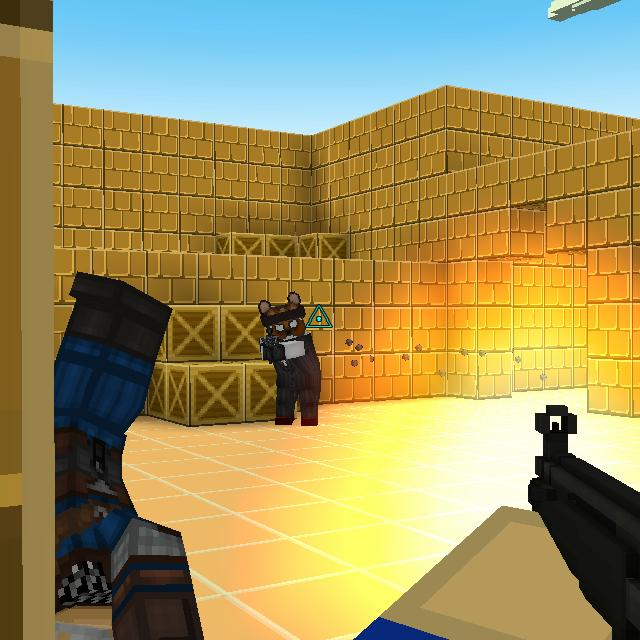enemy: (256, 286, 322, 428)
